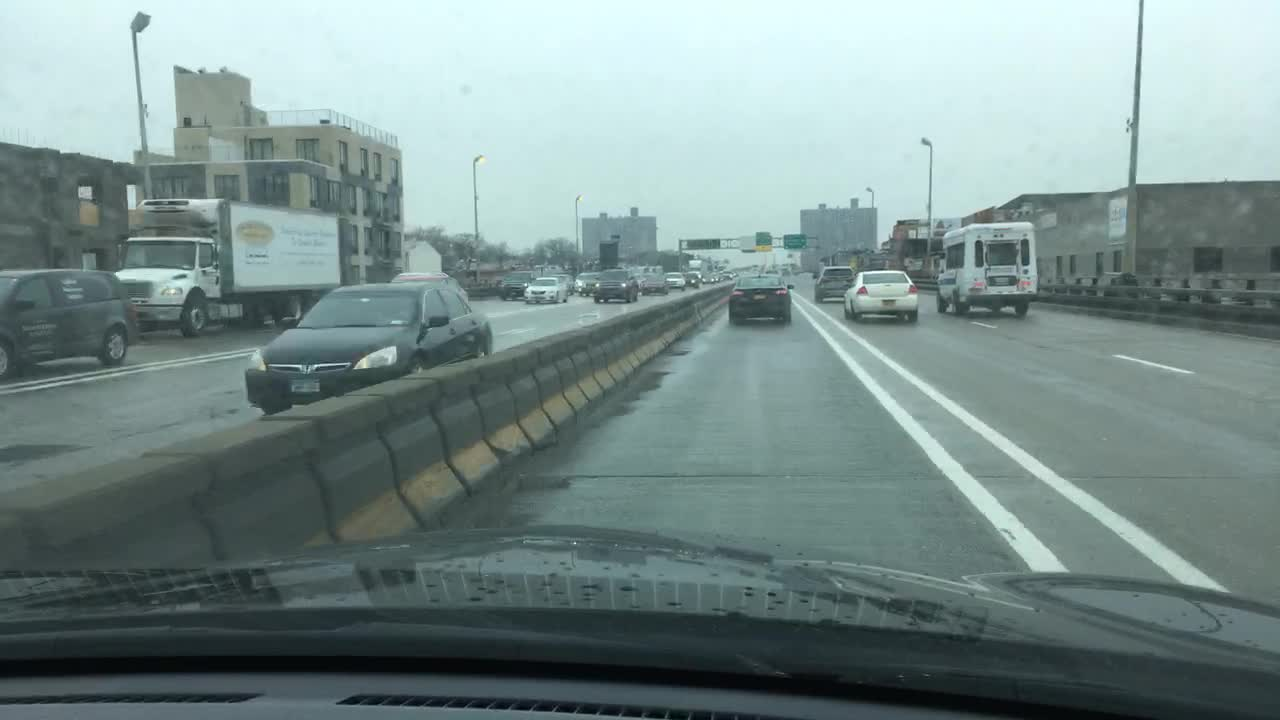car: (243, 280, 493, 412), (0, 265, 137, 382), (844, 265, 921, 323), (725, 269, 793, 324), (388, 270, 469, 296), (813, 264, 858, 300), (594, 272, 637, 305), (525, 274, 565, 306), (500, 269, 535, 298), (640, 267, 671, 296), (572, 269, 599, 294), (554, 272, 577, 292), (664, 271, 685, 288), (700, 267, 720, 284), (630, 271, 645, 287), (687, 269, 700, 286), (720, 267, 733, 280), (765, 266, 781, 274)
traffic sign: (783, 233, 808, 249), (753, 230, 773, 250)
truck: (110, 194, 349, 340), (934, 218, 1042, 319)
